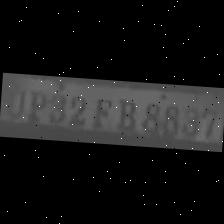2: (64, 92, 88, 128)
7: (196, 104, 217, 138)
8: (138, 96, 162, 132), (158, 100, 182, 134), (182, 100, 200, 135)
B: (112, 96, 138, 132)
F: (88, 92, 112, 132)
P: (26, 86, 44, 122)
U: (6, 84, 26, 119)
